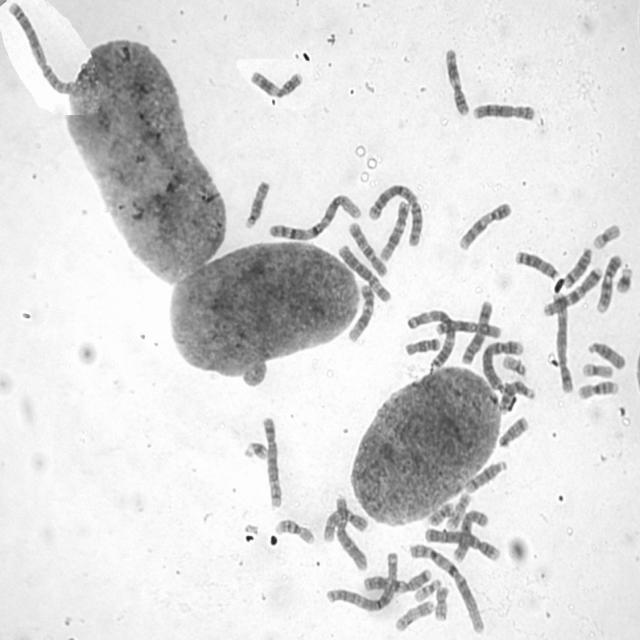A1: (407, 540, 487, 634), (265, 190, 364, 241)
A2: (5, 0, 76, 96), (366, 181, 426, 247)
A3: (324, 548, 400, 612), (404, 304, 457, 370)
B4: (423, 525, 500, 562), (478, 336, 525, 394)
B5: (550, 288, 575, 393), (259, 413, 284, 510)
C10: (346, 217, 389, 278), (322, 505, 371, 543)
C11: (442, 46, 470, 117), (248, 67, 304, 99)
C12: (377, 197, 411, 263), (346, 282, 376, 344)
C6: (336, 242, 394, 304), (332, 492, 370, 572)
C7: (540, 264, 605, 316), (361, 564, 432, 594)
C8: (450, 506, 490, 563), (470, 100, 538, 122)
C9: (456, 199, 513, 252), (594, 251, 623, 314)
D13: (513, 248, 560, 282), (496, 380, 536, 415)
D14: (463, 459, 508, 494), (562, 244, 594, 288)
D15: (242, 178, 272, 230), (585, 338, 628, 371)
E16: (272, 516, 317, 546), (574, 376, 620, 401)
E17: (393, 597, 437, 633), (443, 488, 472, 530)
E18: (496, 413, 530, 449), (402, 334, 441, 358)
F19: (590, 220, 623, 251), (579, 360, 614, 379)
F20: (425, 498, 455, 526), (433, 583, 452, 622)
G21: (242, 437, 270, 462), (613, 263, 634, 295)
G22: (412, 575, 442, 602), (500, 353, 528, 378)
X: (458, 297, 494, 366), (432, 318, 502, 340)
